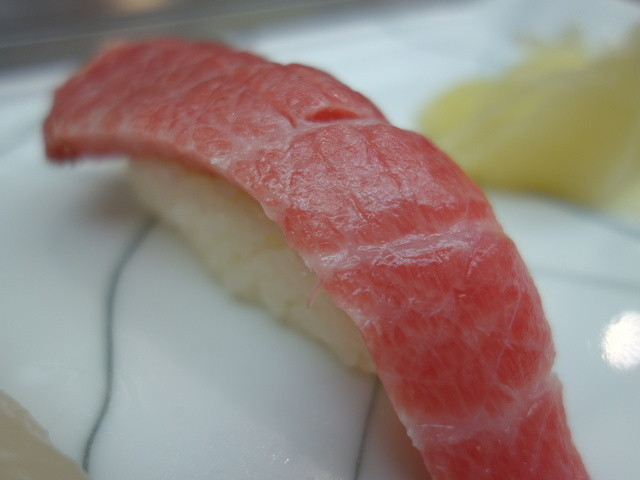medium_fatty_tuna: (35, 37, 591, 480)
